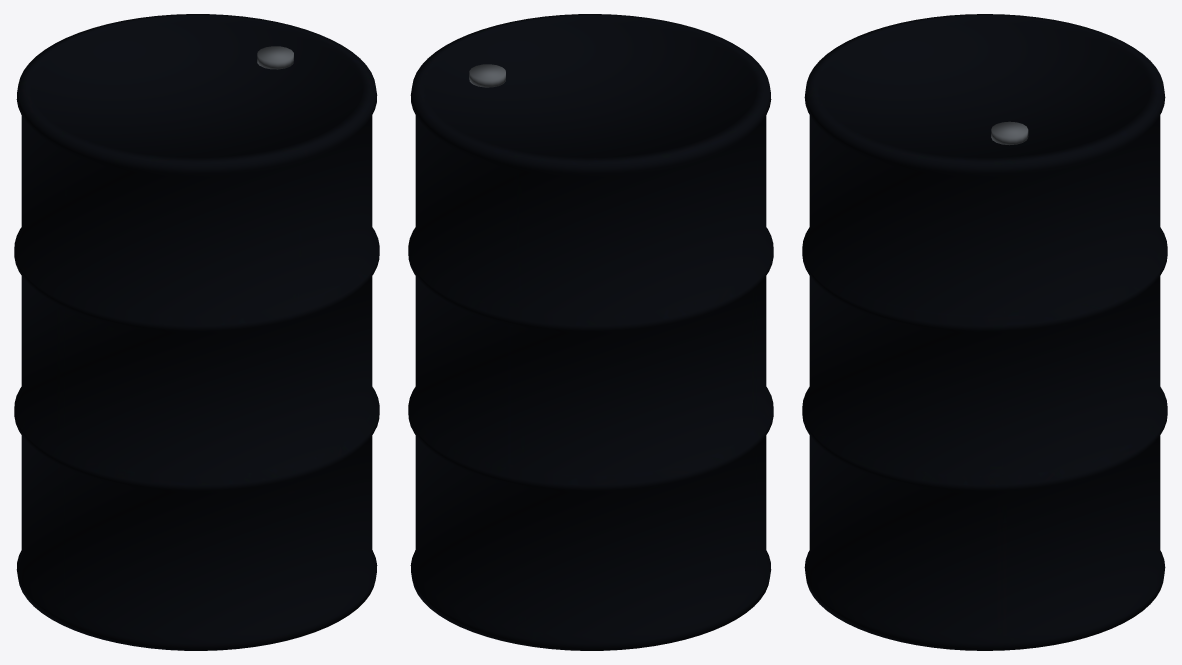
File: obj_barrel_steel.glb
The picture shows the model from 3 angles, left to right: view 1: azimuth 30°, elevation 25°; view 2: azimuth 150°, elevation 25°; view 3: azimuth 270°, elevation 25°; orthographic projection.
Parts seen in each view (by area): view 1: barrel_steel_body, bung; view 2: barrel_steel_body, bung; view 3: barrel_steel_body, bung.
Part boxes in pixels (<box>): barrel_steel_body: <box>14,14,379,650</box>; bung: <box>257,46,293,69</box>; barrel_steel_body: <box>408,14,773,650</box>; bung: <box>469,64,505,87</box>; barrel_steel_body: <box>802,14,1167,650</box>; bung: <box>991,121,1028,145</box>.
Size of the model in its own units: 0.592 by 0.882 by 0.592.
Materials: 2 (1 with a texture image).
